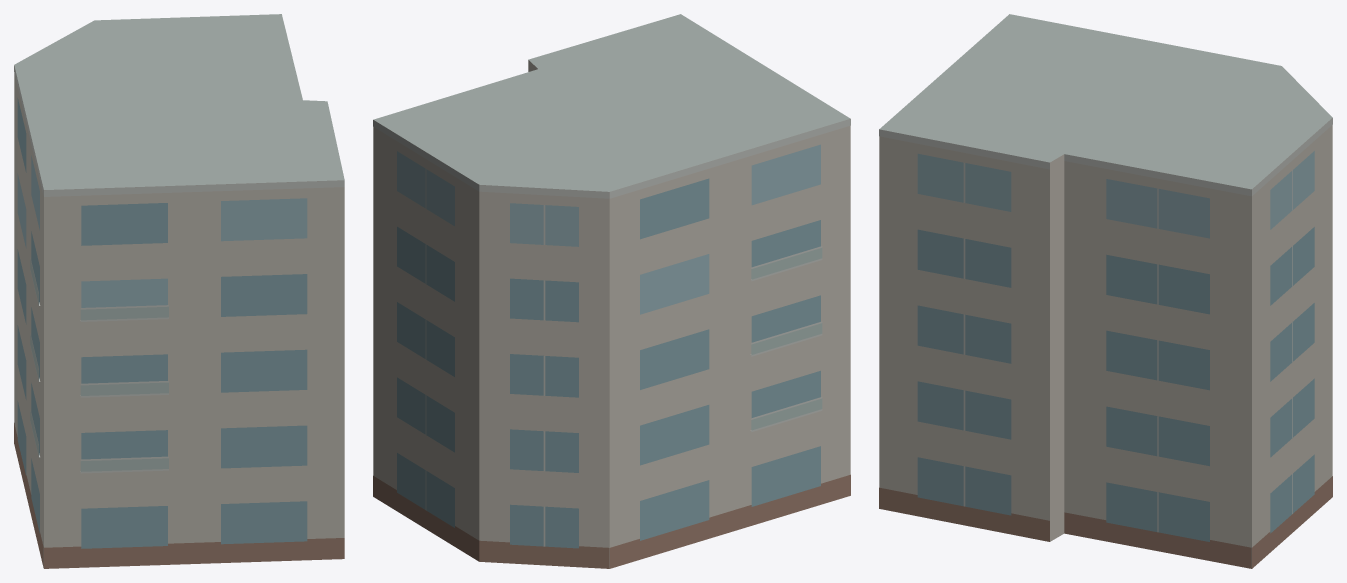
The model's file is survey-upis-32976261.glb.
3 views of the same model, side by side, from view 1: azimuth 30°, elevation 25°; view 2: azimuth 150°, elevation 25°; view 3: azimuth 270°, elevation 25° (orthographic).
Visible parts, largest first — view 1: survey-upis-32976261.tmp; view 2: survey-upis-32976261.tmp; view 3: survey-upis-32976261.tmp.
Boxes of the visible parts, x1,y1,x2,y2 form: survey-upis-32976261.tmp: (14, 14, 344, 568); survey-upis-32976261.tmp: (373, 14, 850, 568); survey-upis-32976261.tmp: (879, 14, 1332, 568).
Size of the model in its own units: 13.25 by 13.35 by 14.47.
